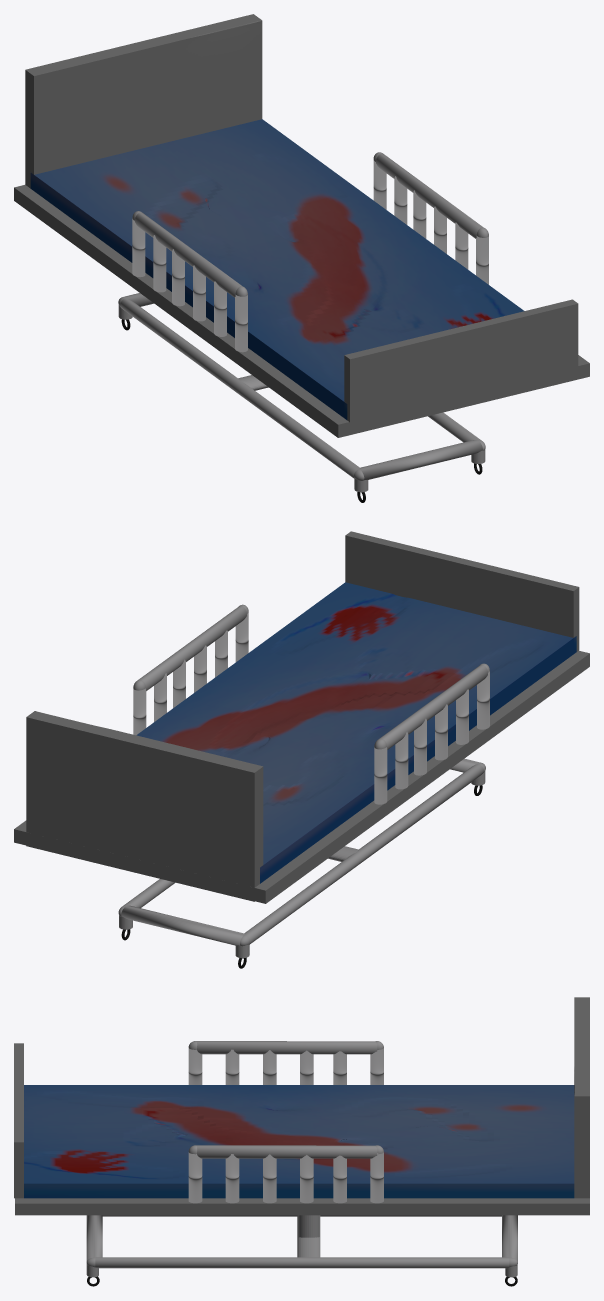
The model's file is camilla 2 de hospital original.fbx.
3 views of the same model, one above another, from view 1: azimuth 30°, elevation 25°; view 2: azimuth 150°, elevation 25°; view 3: azimuth 270°, elevation 25° (orthographic). The views are drawn at different scales.
Visible parts, largest first — view 1: base camilla xd, Colchon camilla; view 2: base camilla xd, Colchon camilla; view 3: Colchon camilla, base camilla xd.
Part boxes in pixels (x1=…): base camilla xd: x1=14, y1=14, x2=589, y2=492; Colchon camilla: x1=30, y1=119, x2=524, y2=419; base camilla xd: x1=14, y1=531, x2=589, y2=958; Colchon camilla: x1=136, y1=582, x2=576, y2=883; Colchon camilla: x1=24, y1=1085, x2=574, y2=1198; base camilla xd: x1=14, y1=997, x2=589, y2=1277.
Size of the model in its own units: 9.51 by 8.7 by 21.21.
